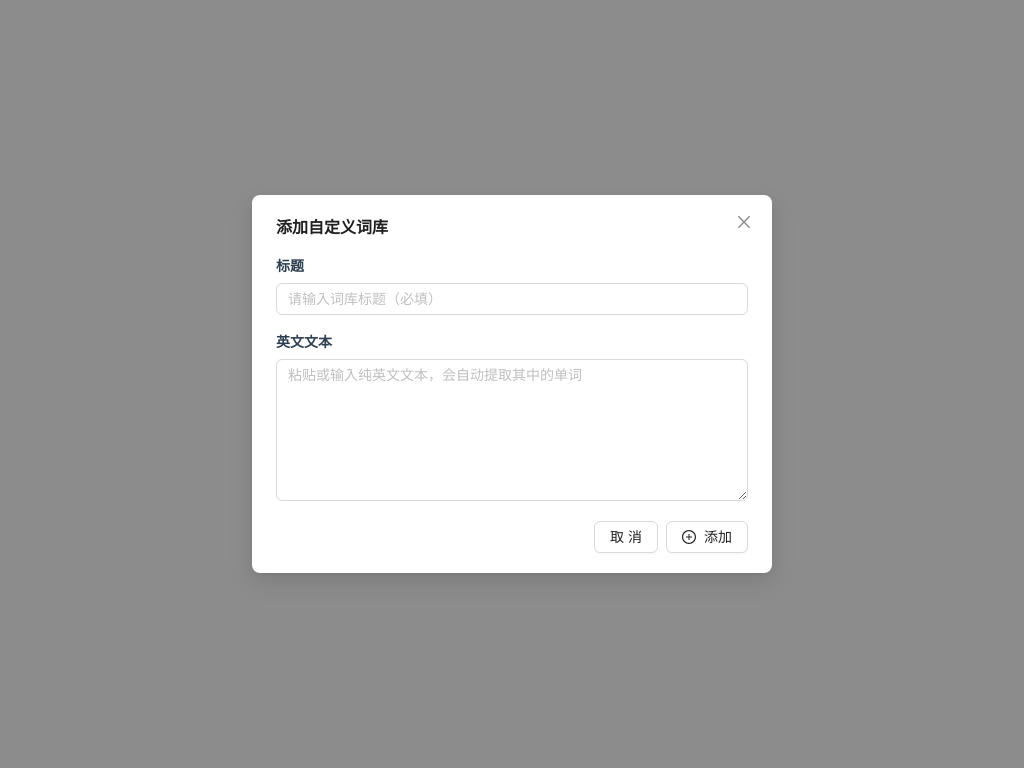
CustomWordModal（自定义词库弹窗） › 标题与文本有效：对勾（绿）、提示提取数量，确认按钮可点击
Type "我的词库" into the field with placeholder "请输入词库标题（必填）" at (504, 299), box [288,288,720,310]
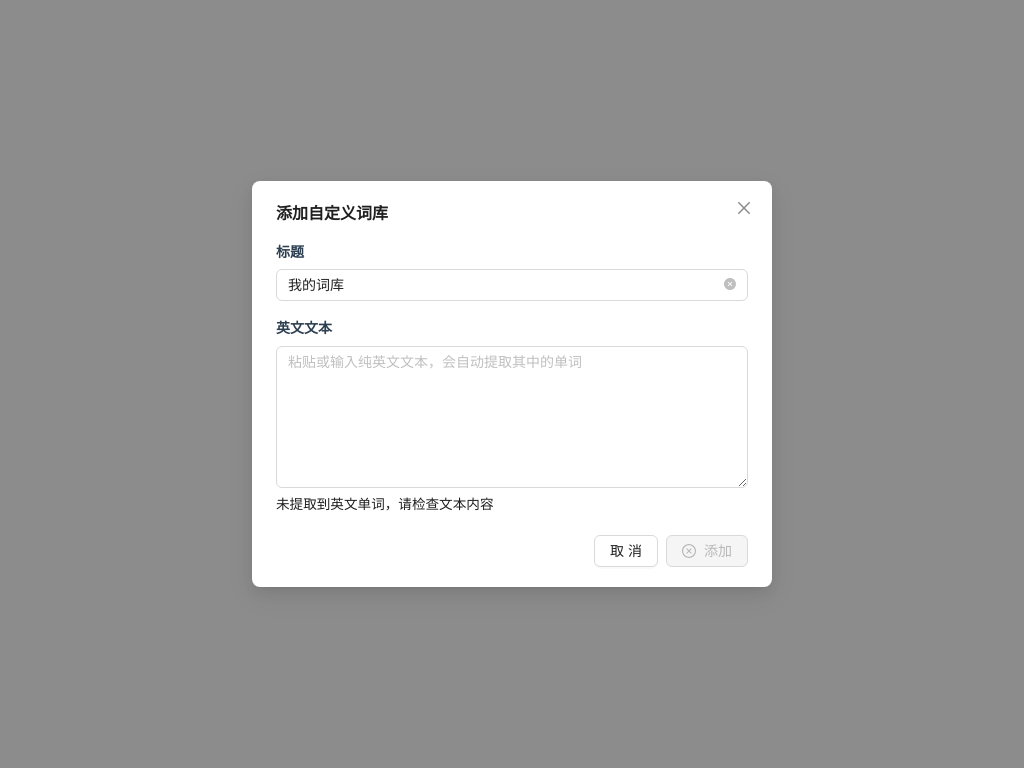
Type "Hello, world! Hello apple." into the text box with placeholder "粘贴或输入纯英文文本，会自动提取其中的单词" at (512, 416), box [276,346,748,488]
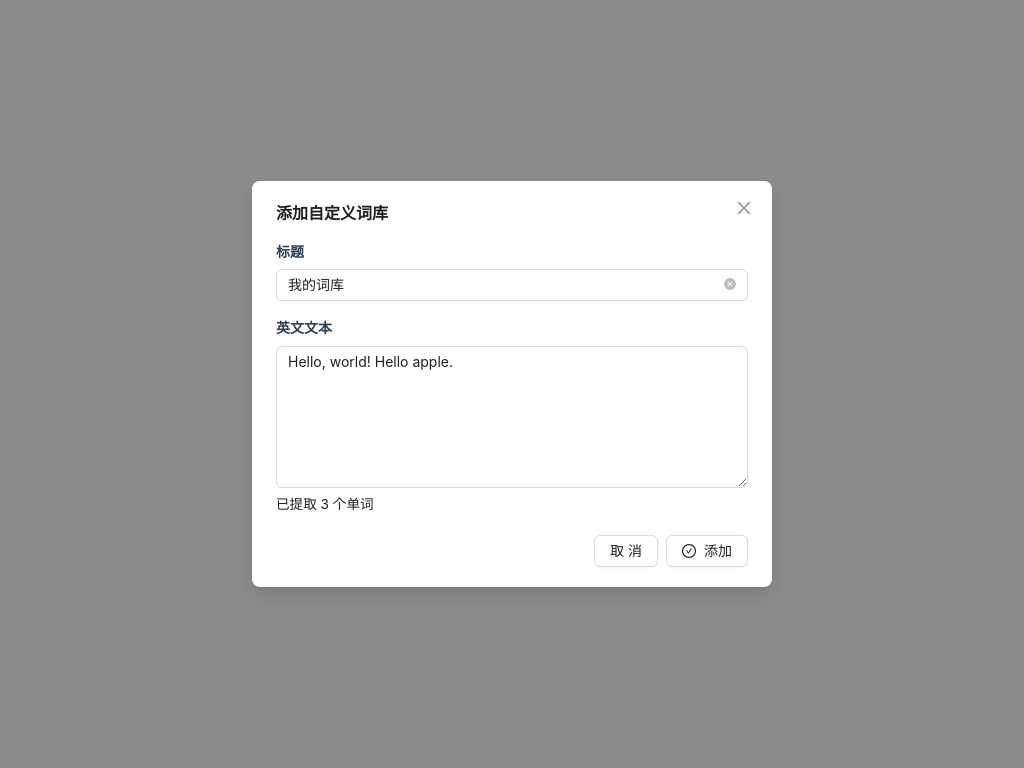
Now the picture with class "icon-valid" is shown, box [682,544,696,558]
Now the picture with class "icon-invalid" is gone
Now the button "添加" is enabled, box [666,535,748,567]
